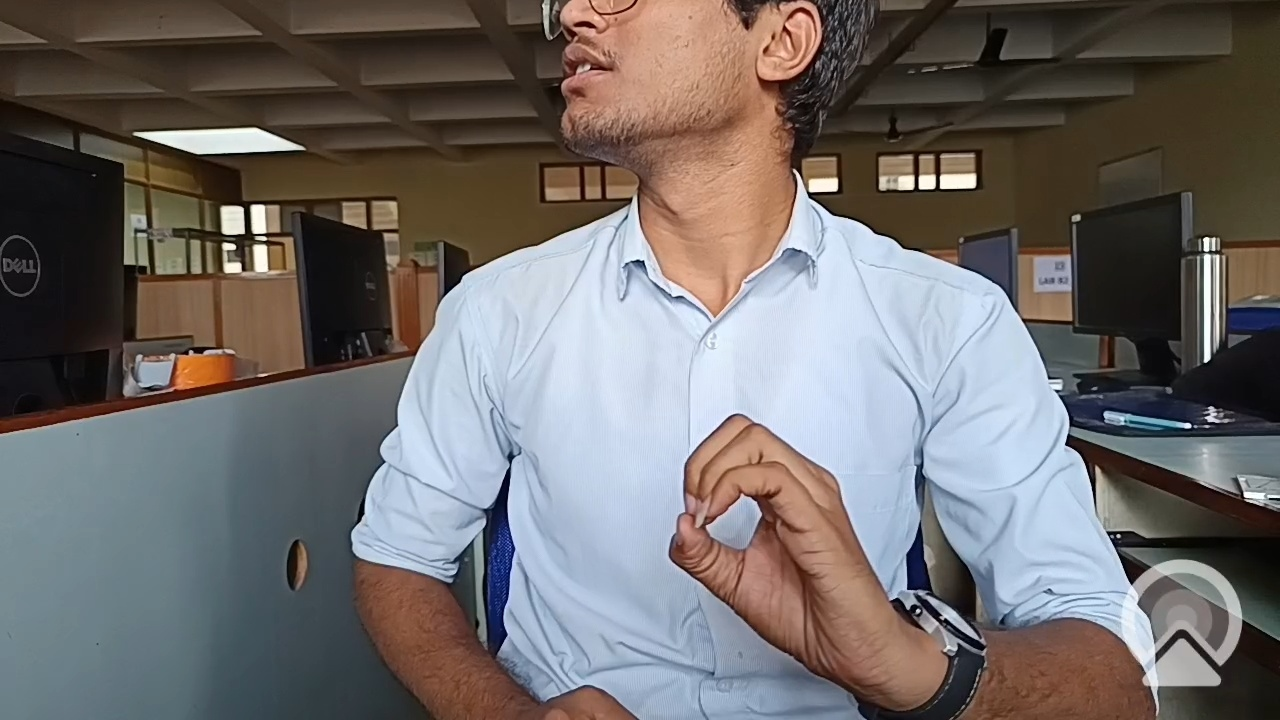O: (661, 388, 909, 707)
